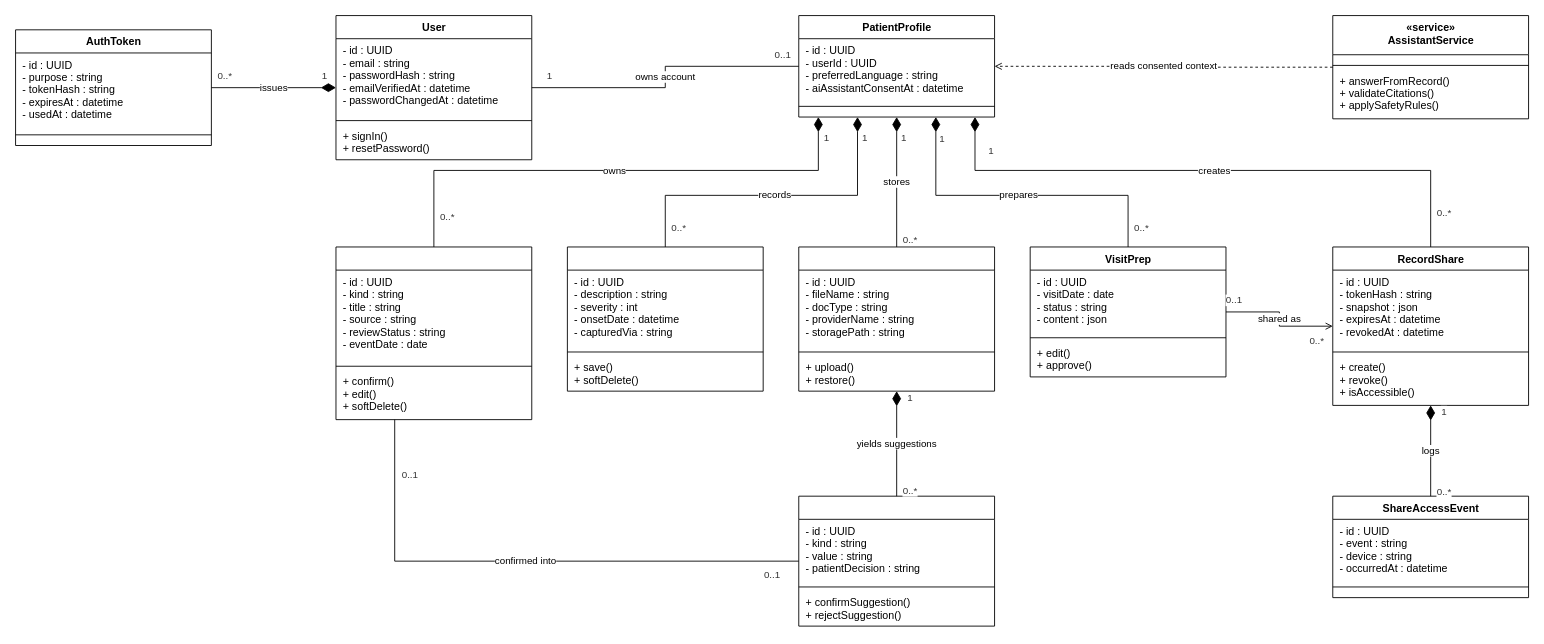
Image size: 1544x644. Some labels were removed from this diagram. Each missing label, with the box of its shape:
Document: (798, 246, 995, 391)
DocumentFact: (798, 495, 995, 626)
HealthEntry: (335, 246, 532, 420)
SymptomReport: (566, 246, 763, 391)
